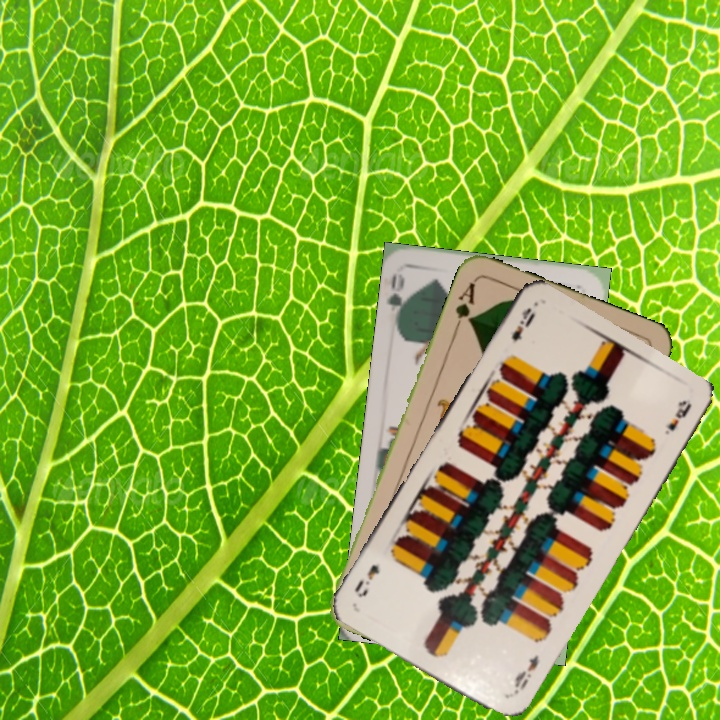E9: (510, 650, 542, 697), (507, 303, 538, 344)
GA: (450, 278, 479, 334)
GO: (384, 269, 413, 328)
